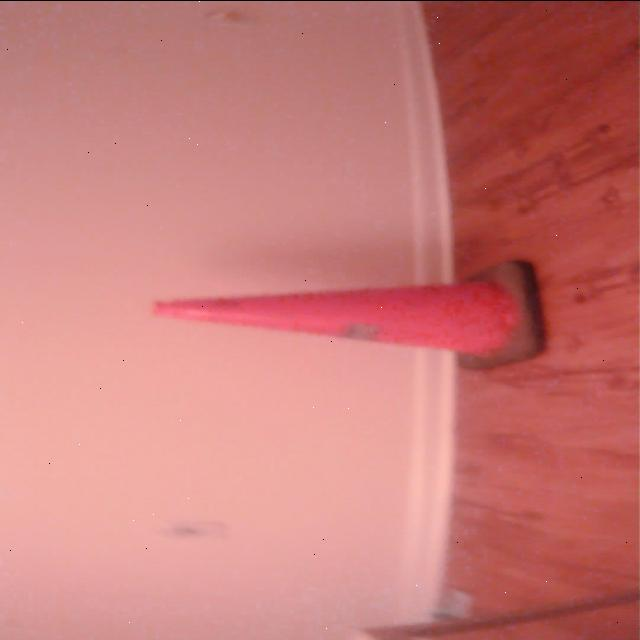traffic cone: (145, 255, 553, 374)
